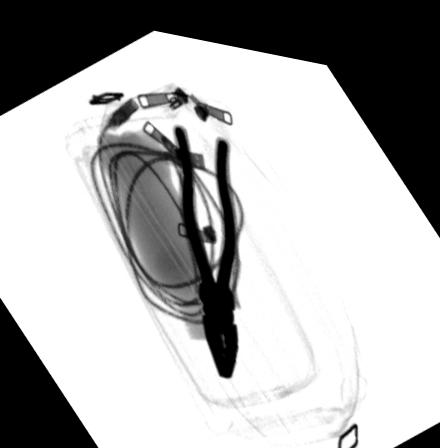Pliers: (170, 115, 243, 370)
